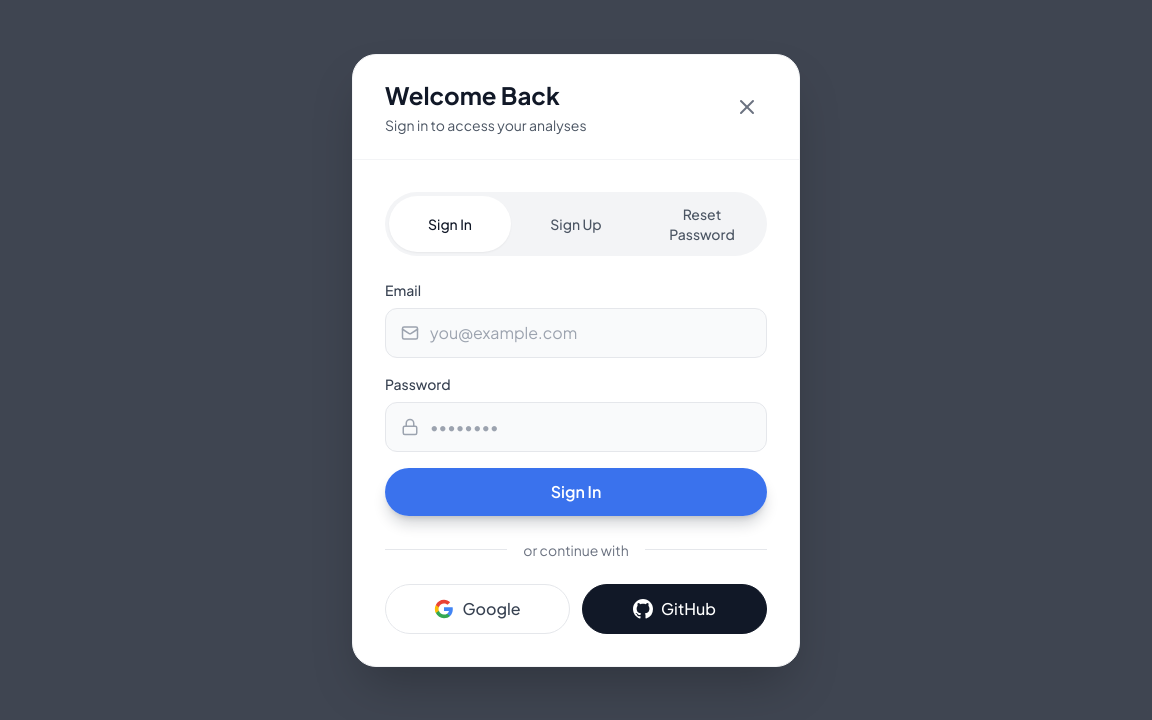
AuthModal › Sign In form › should show error message on sign in failure
The image size is (1152, 720).
In the field with placeholder "you@example.com": point(576, 332) left=385, top=308, right=767, bottom=358, type "test@example.com"
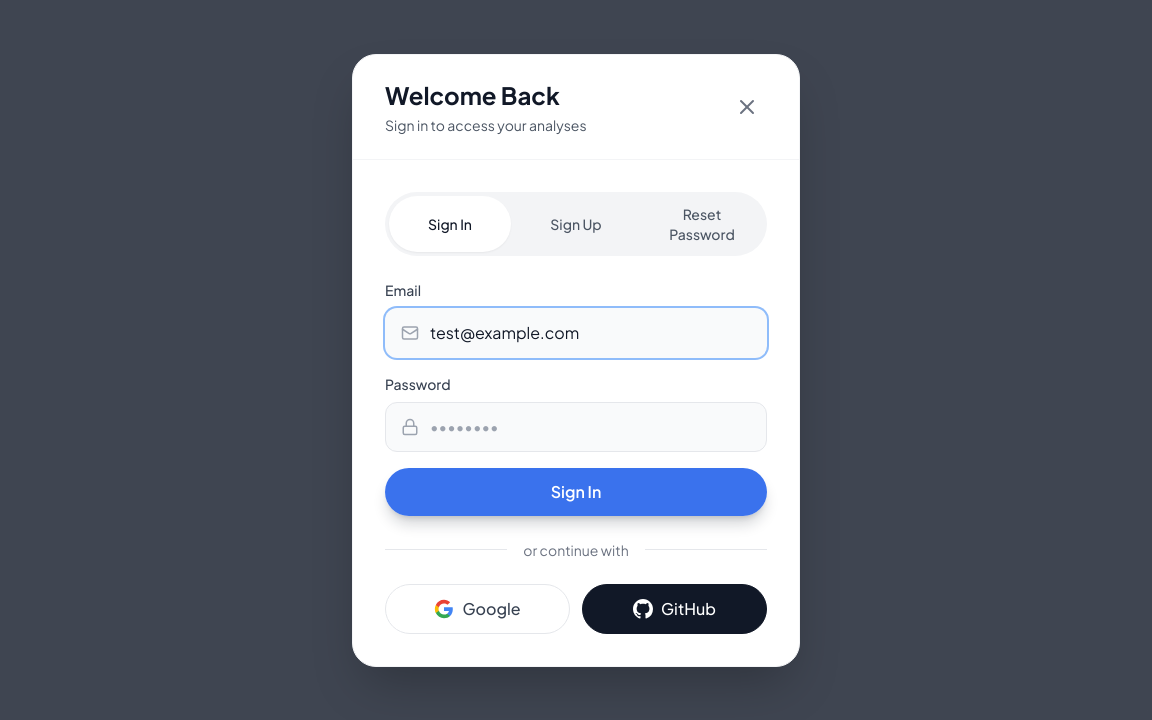
In the password field with placeholder "••••••••": point(576, 426) left=385, top=402, right=767, bottom=452, type "wrongpassword"
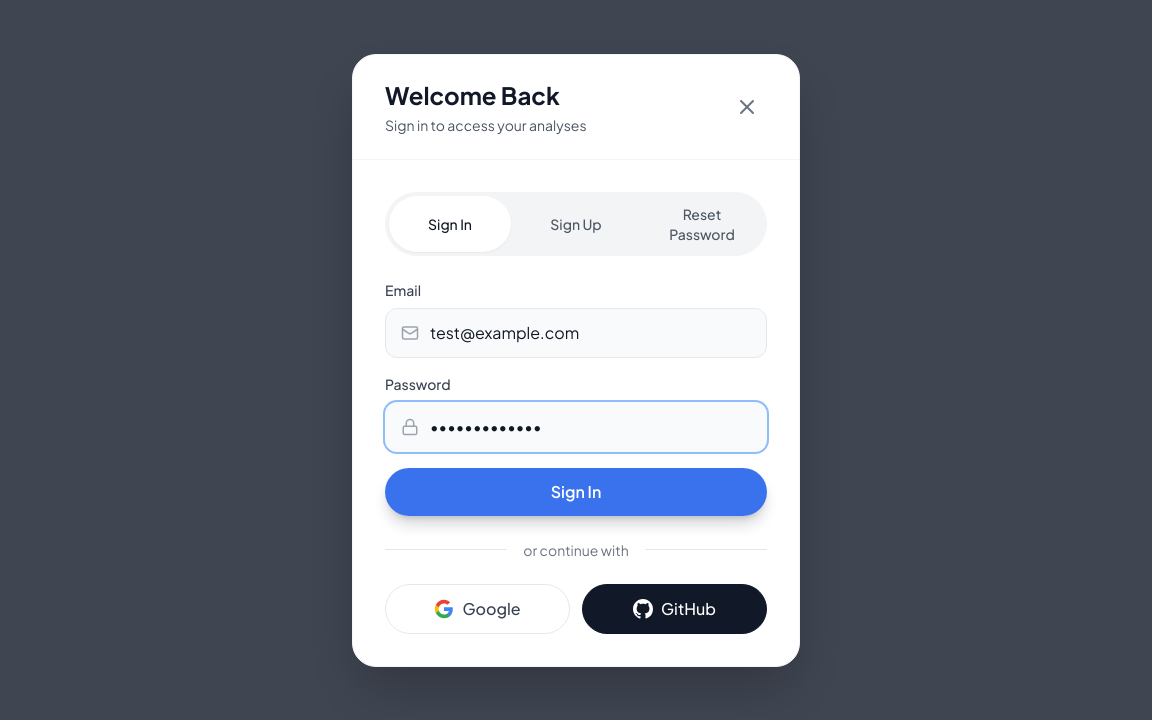
Click the button "Sign In" below "Email": point(576, 492) left=385, top=468, right=767, bottom=516
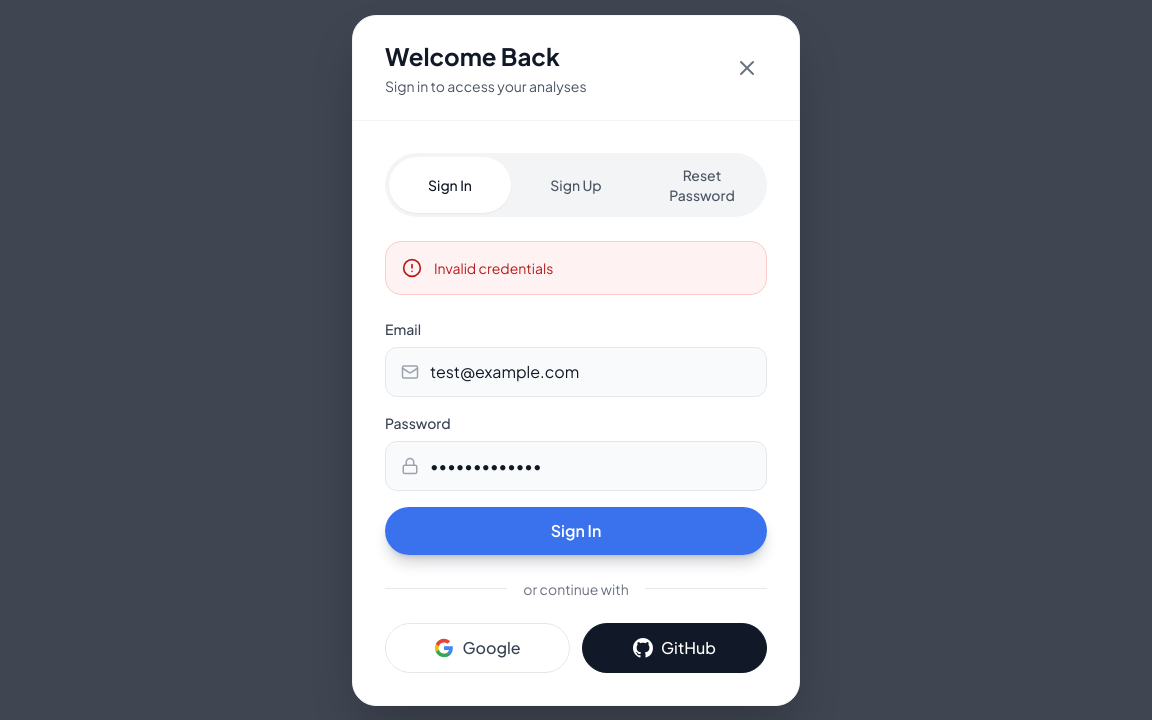
Check: the text "Invalid credentials" is shown, box left=434, top=258, right=553, bottom=278
